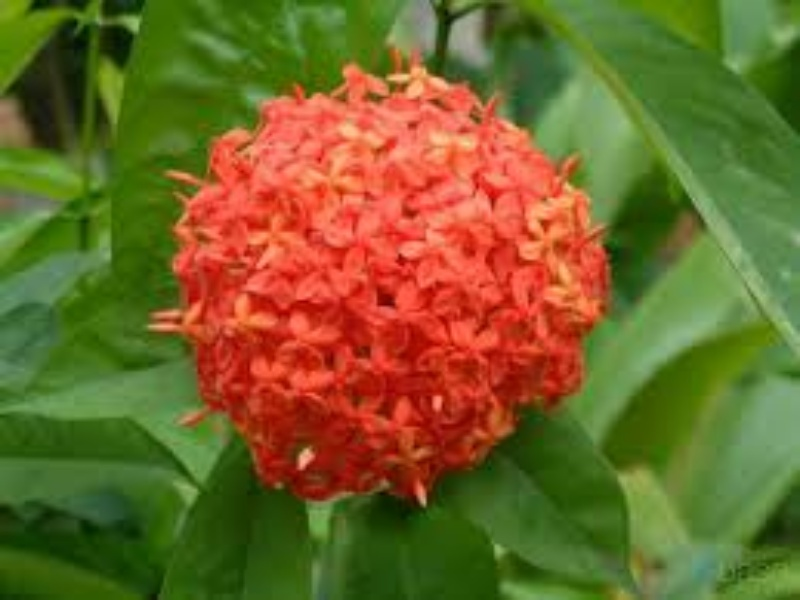Ixora: (132, 35, 642, 513)
